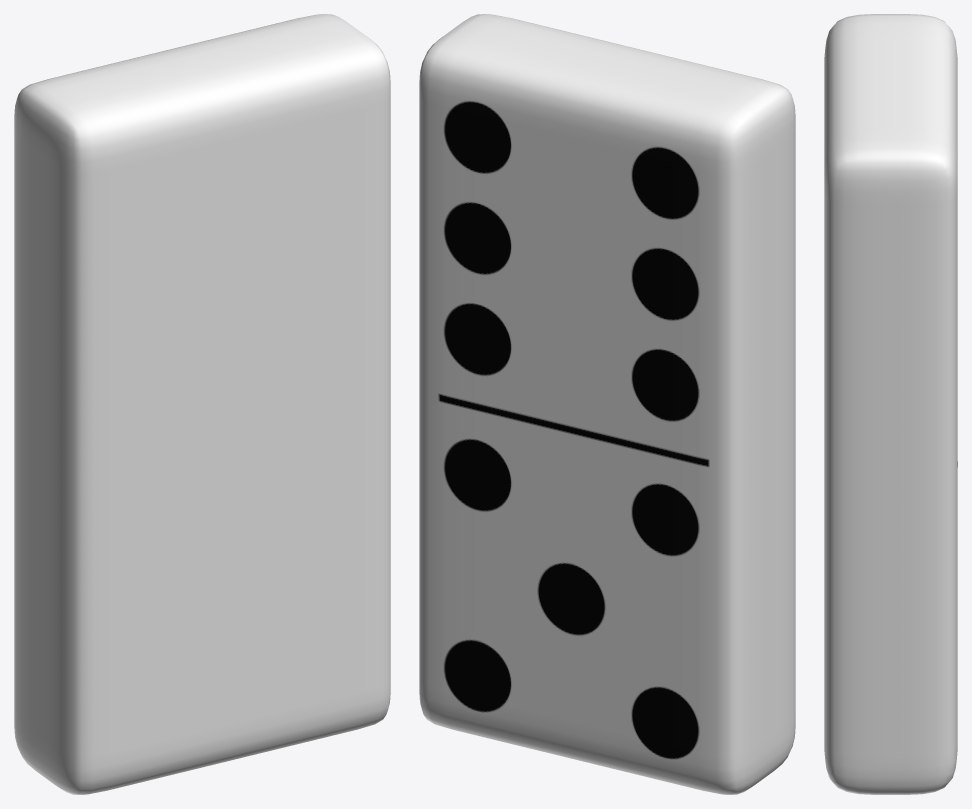
File: domino.fbx
3 renders of one model, left to right at view 1: azimuth 30°, elevation 25°; view 2: azimuth 150°, elevation 25°; view 3: azimuth 270°, elevation 25°, orthographic. The views are drawn at different scales.
Parts seen in each view (by area): view 1: Domino; view 2: Domino; view 3: Domino.
Part boxes in pixels (bbox=[...]): Domino: bbox=[14, 14, 390, 794]; Domino: bbox=[419, 14, 795, 794]; Domino: bbox=[824, 14, 957, 794].
Bounding box in the file's own units: 2.54 × 5.08 × 0.9525.
